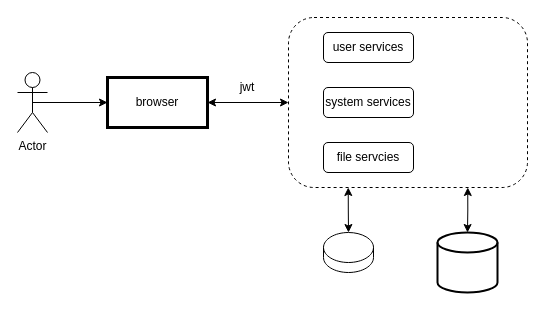
The diagram is 545 pixels wide and 311 high, and some of its shapes have lost their labels. The shapes that lost their labels are listed below. From the top down, each one's box as (x1, y1, x2, y2) in pixels, then its label:
(322, 232, 374, 272): redis
(436, 231, 498, 293): DB
